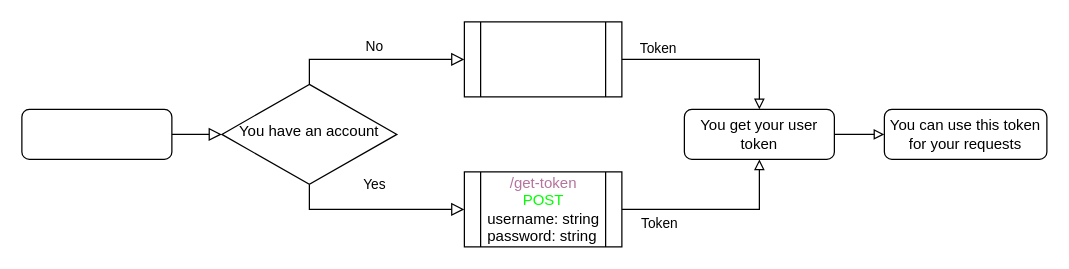
This 1069x269 diagram has some shape labels left out. The box of each missing label's shape, as (x1, y1, x2, y2) in pixels:
/register POST username: string password: string: (463, 21, 622, 97)
You want to access the application: (21, 108, 172, 159)
